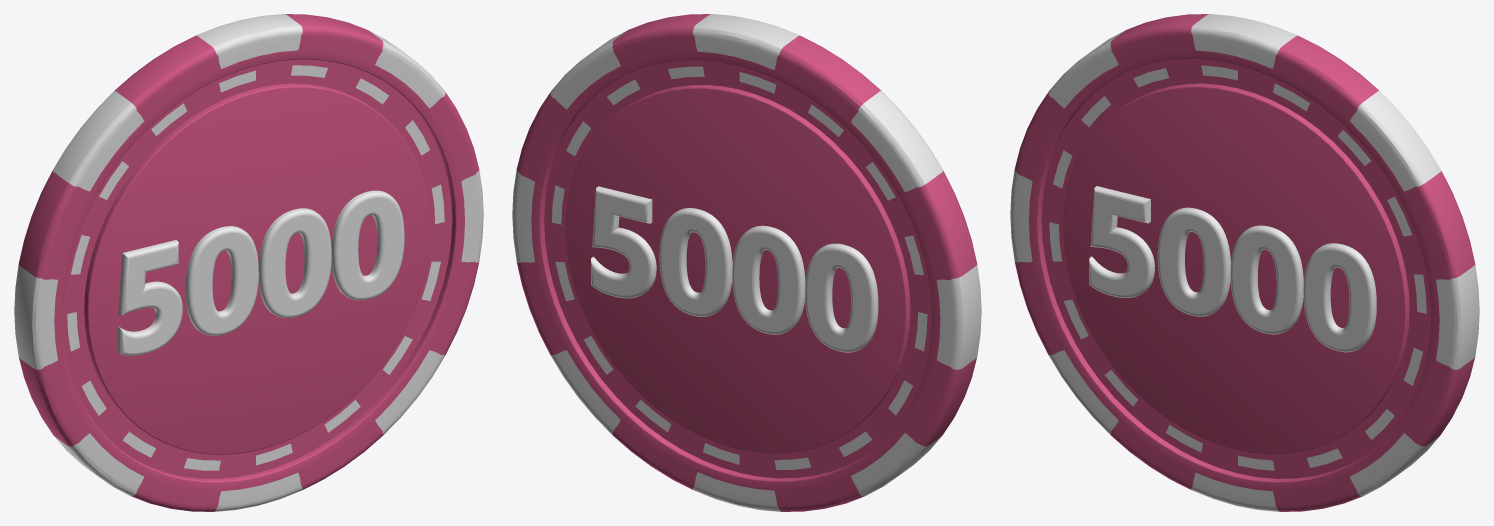
Rendered from poker_chip_5000.glb.
3 views of the same model, side by side, from view 1: azimuth 30°, elevation 25°; view 2: azimuth 150°, elevation 25°; view 3: azimuth 330°, elevation 25° (orthographic).
Visible parts, largest first — view 1: Chip_0; view 2: Chip_0; view 3: Chip_0.
Boxes of the visible parts, x1,y1,x2,y2 form: Chip_0: (14,14,483,511); Chip_0: (512,14,981,511); Chip_0: (1010,14,1479,511).
Size of the model in its own units: 0.0802 by 0.0802 by 0.00911.
